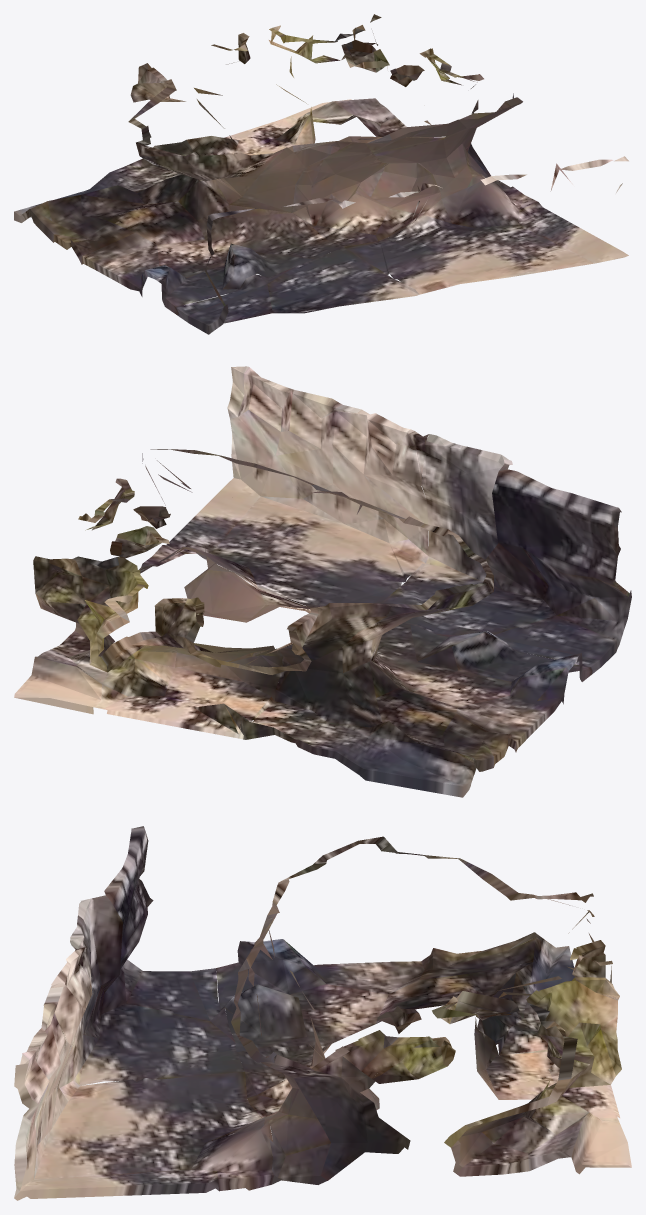
The picture shows the model from 3 angles, top to bottom: view 1: azimuth 30°, elevation 25°; view 2: azimuth 150°, elevation 25°; view 3: azimuth 270°, elevation 25°; orthographic projection. The views are drawn at different scales.
Parts seen in each view (by area): view 1: Mesh_0; view 2: Mesh_0; view 3: Mesh_0.
Part boxes in pixels (x1,y1,x2,y2): Mesh_0: [14, 14, 628, 334]; Mesh_0: [14, 366, 631, 797]; Mesh_0: [14, 826, 631, 1200].
Size of the model in its own units: 32.75 by 9.59 by 32.96.
Materials: 1 (1 with a texture image).
